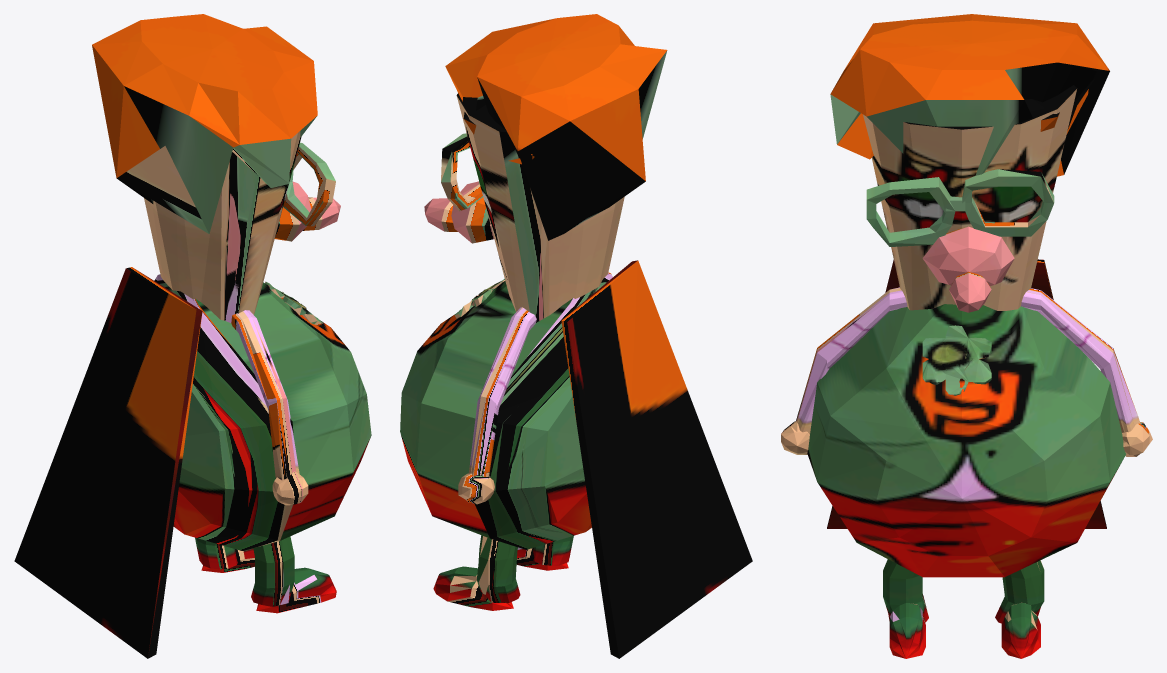
Rendered from SuprShik.glb.
3 renders of one model, left to right at view 1: azimuth 30°, elevation 25°; view 2: azimuth 150°, elevation 25°; view 3: azimuth 270°, elevation 25°, orthographic. The views are drawn at different scales.
Parts seen in each view (by area): view 1: SuprShik; view 2: SuprShik; view 3: SuprShik.
Boxes of the visible parts, x1,y1,x2,y2 form: SuprShik: (14,14,371,658); SuprShik: (400,14,752,658); SuprShik: (781,14,1152,658).
Bounding box in the file's own units: 114 × 223 × 132.
1 material, 1 textured.
